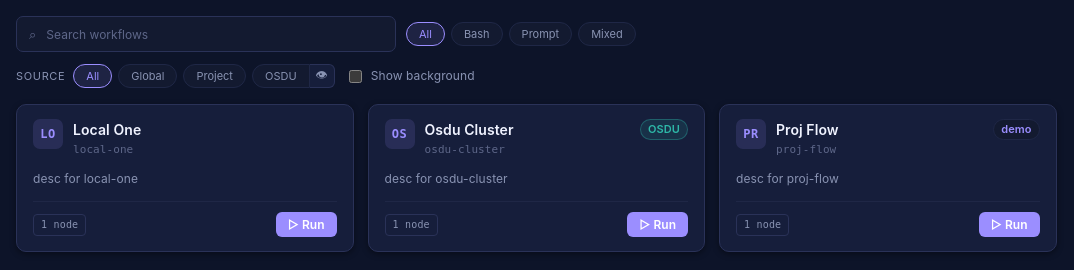
WorkflowList — provenance filtering › the source filter narrows the grid to one source
// Click the "global" source chip (kind: local) → only the global workflow remains.
Click the button "global": [148, 76] box [118,64,178,88]
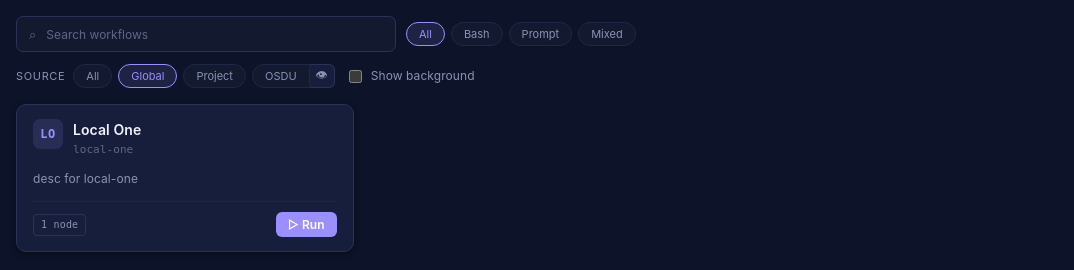
Expected: the text "local-one" is shown, [73,141,141,158]
Result: the text "osdu-cluster" is gone
Result: the text "proj-flow" is gone
